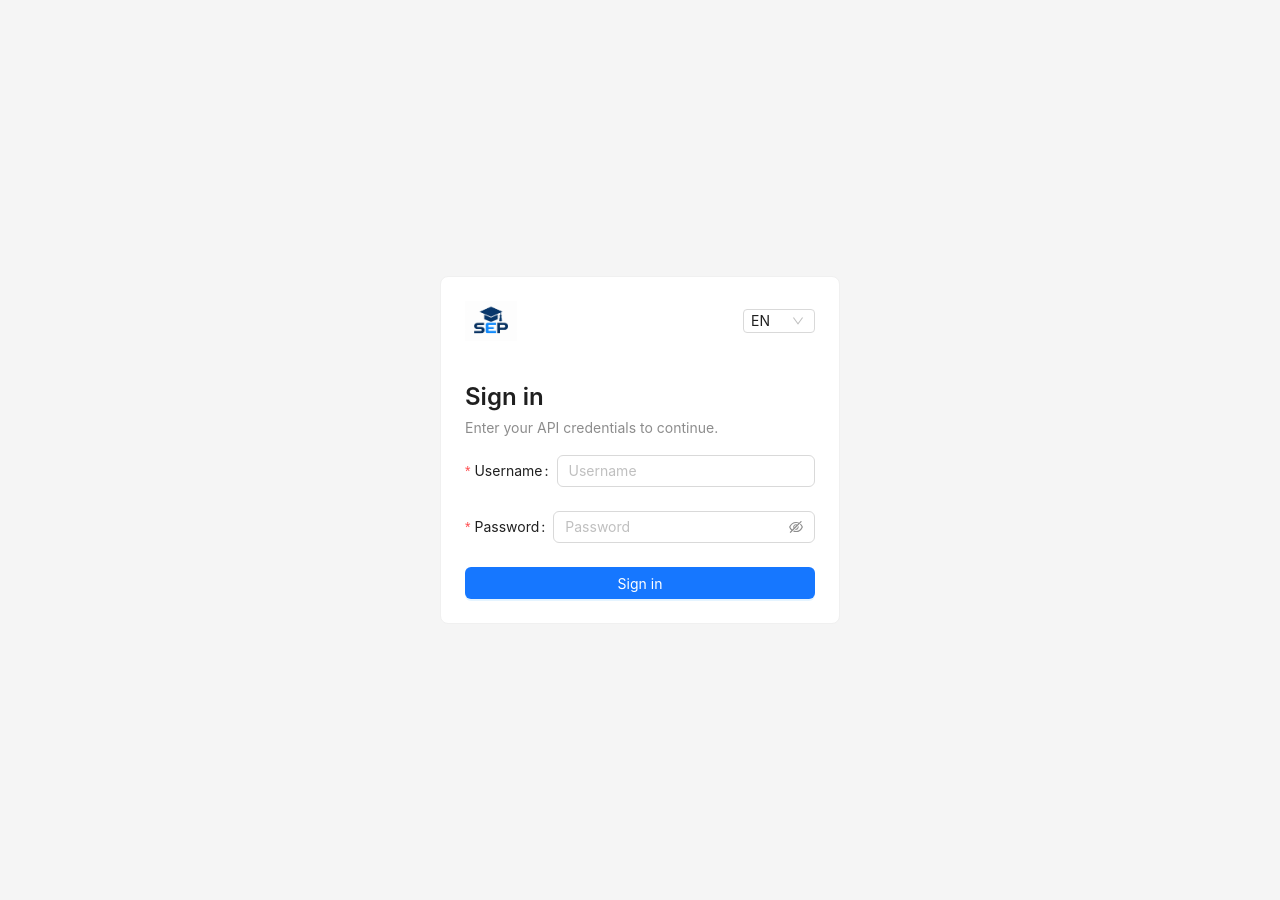
Scenario: App auth flow › enters the students UI after a successful login
The width and height of the screenshot is (1280, 900).
In the field labelled "Username": (686, 471) [556, 455, 815, 487], type "dev"
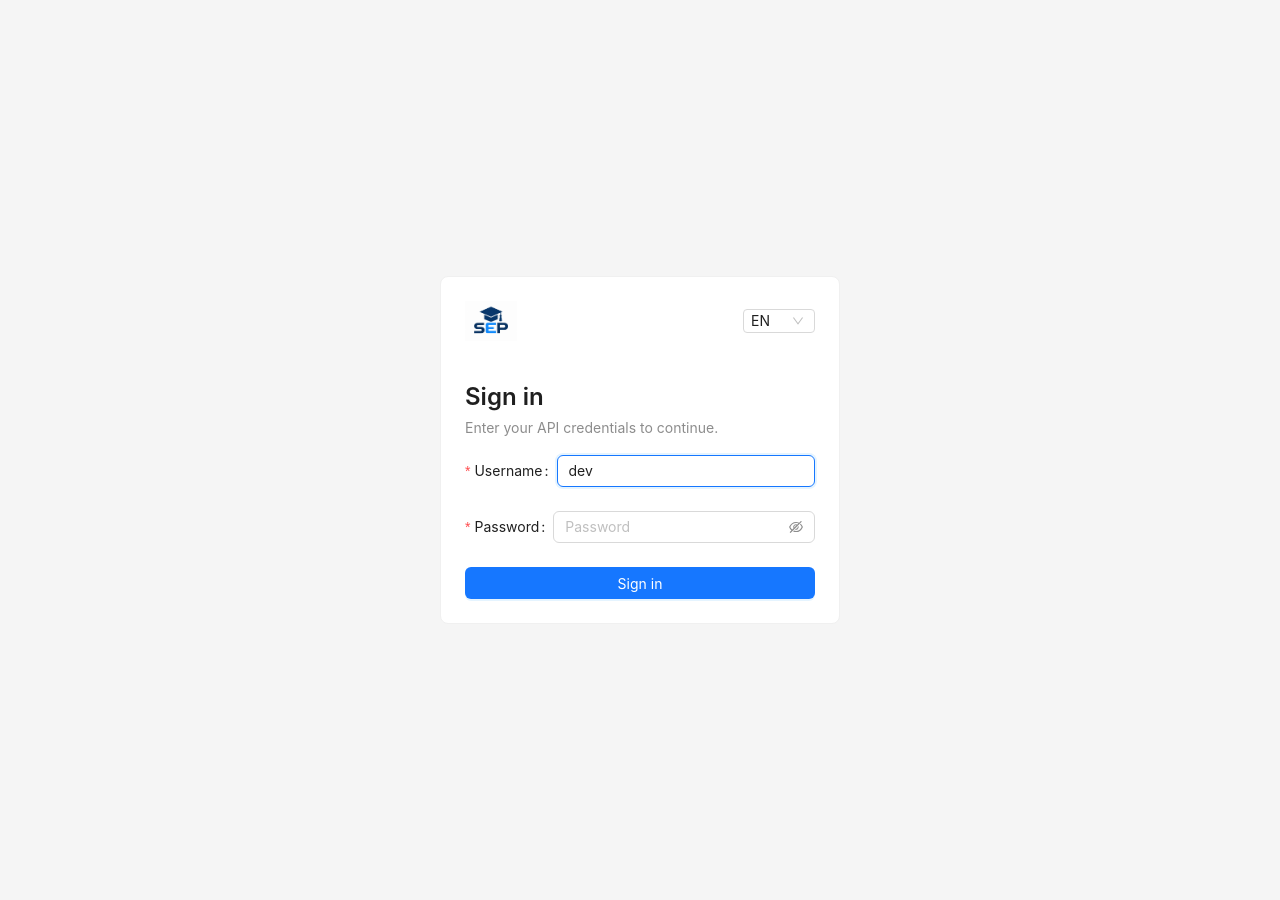
In the password field labelled "Password": (675, 527) [565, 516, 785, 538], type "changeme"
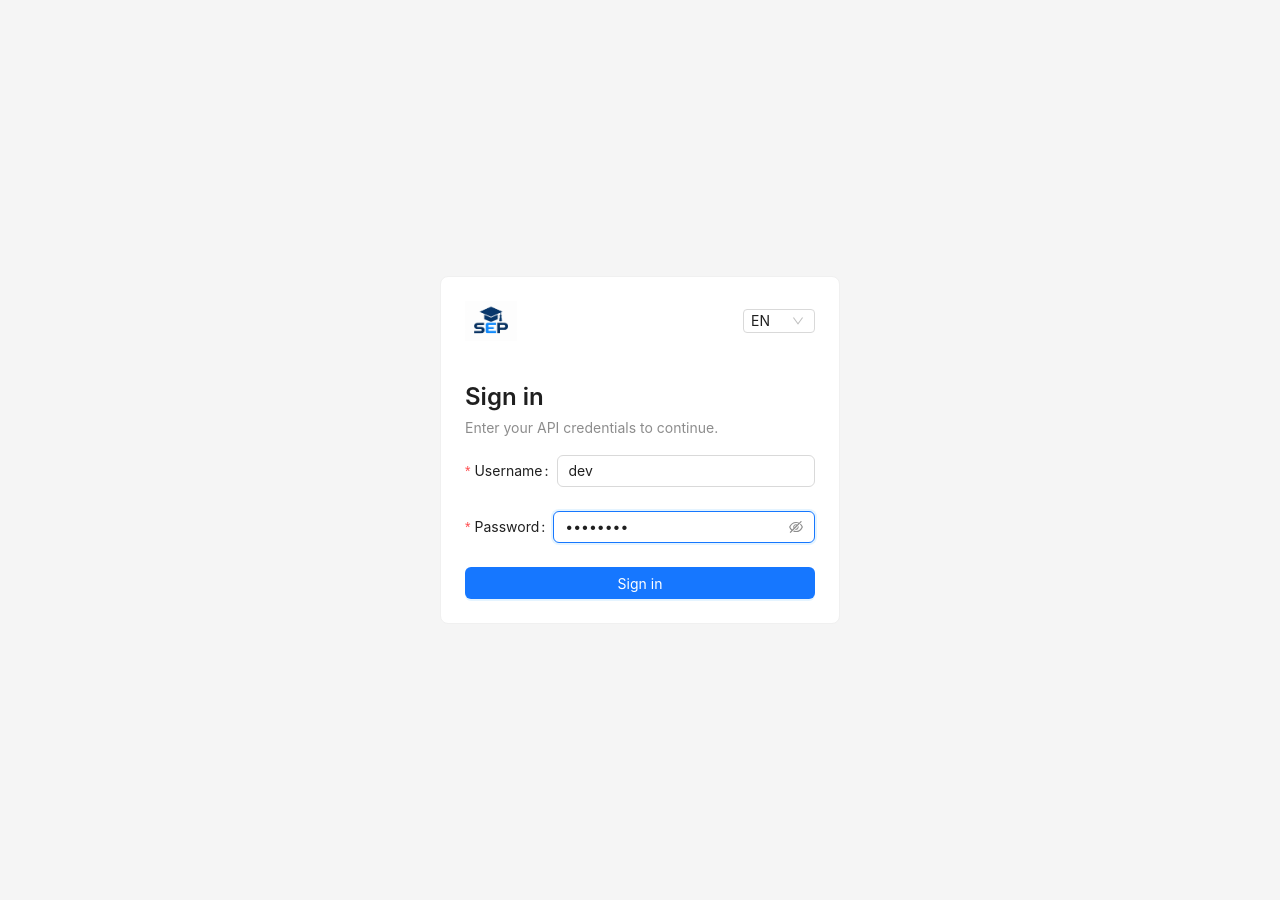
Click the button "Sign in": (640, 583) [465, 567, 815, 599]
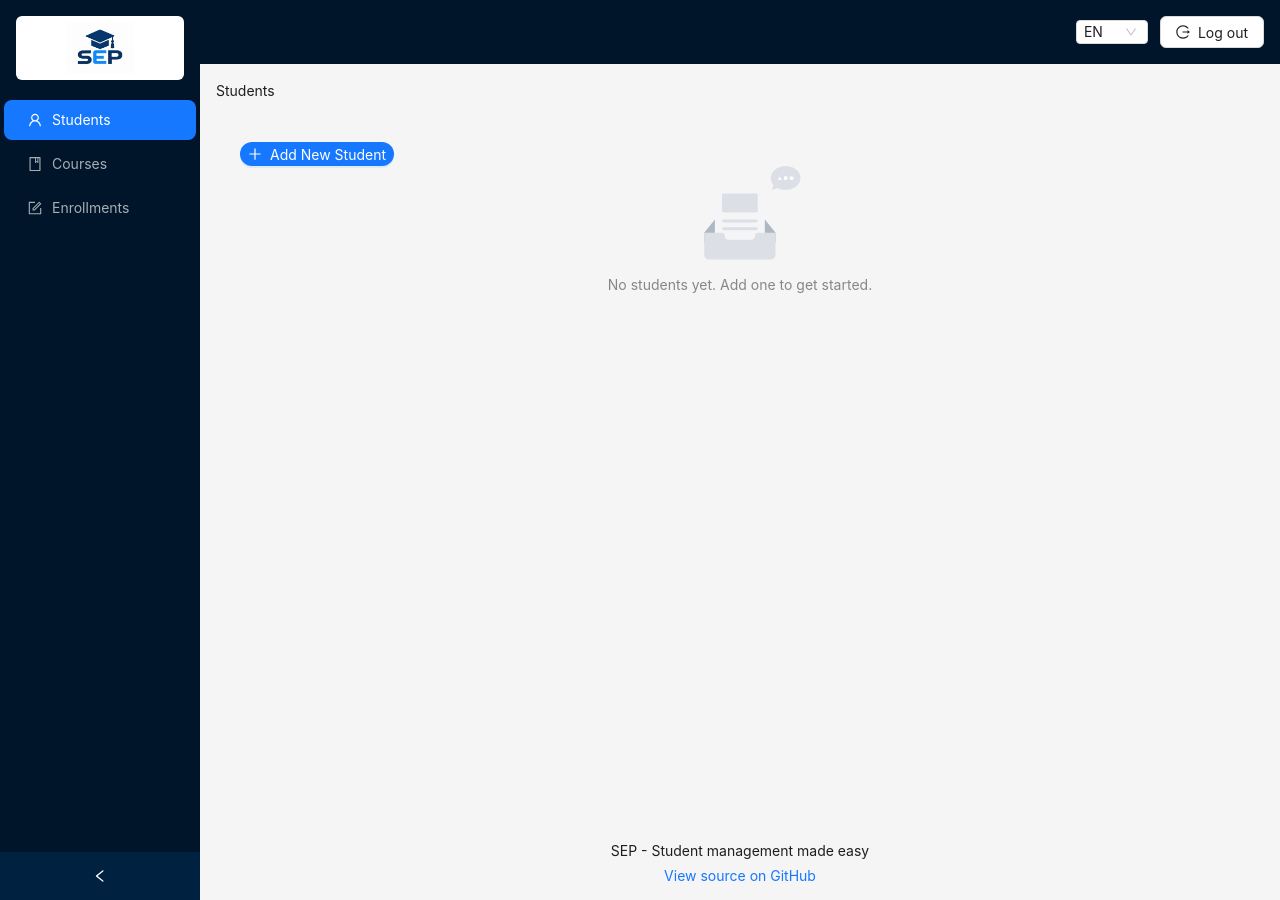
Result: the text "Add New Student" is shown at [270, 146, 386, 162]
Result: the button "Log out" is shown at [1160, 16, 1264, 48]
